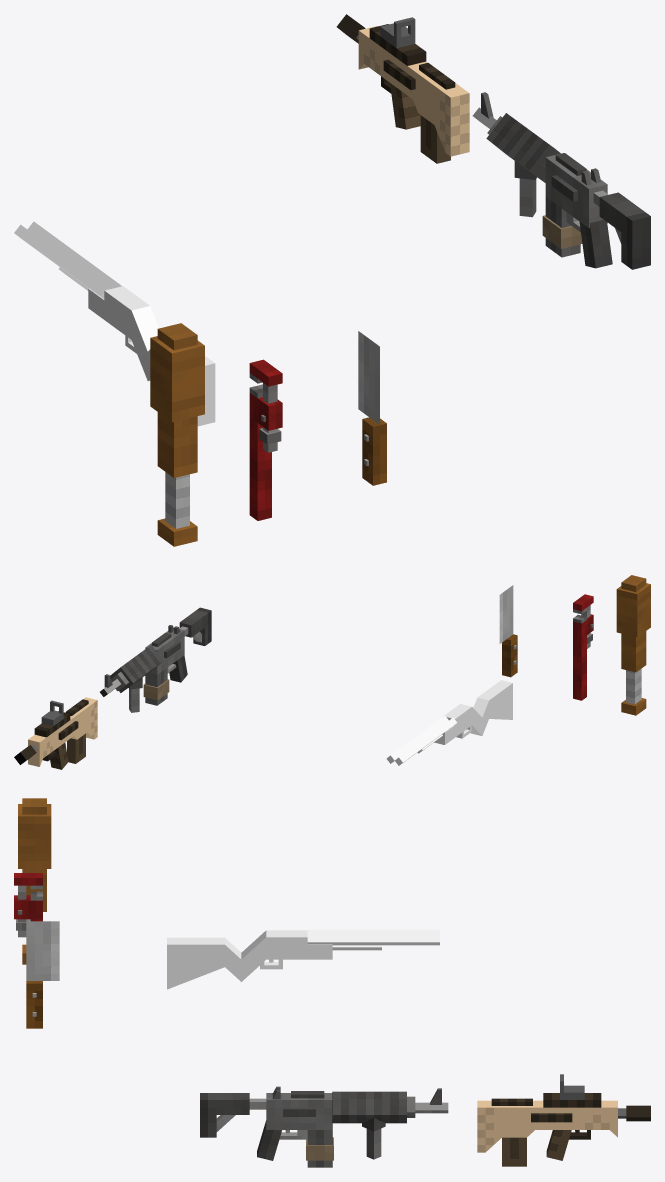
The model's file is Weapons.gltf.
3 views of the same model, one above another, from view 1: azimuth 30°, elevation 25°; view 2: azimuth 150°, elevation 25°; view 3: azimuth 270°, elevation 25° (orthographic). The views are drawn at different scales.
Visible parts, largest first — view 1: cuboid (×22), plane, RedDot; view 2: cuboid (×22), plane, RedDot; view 3: cuboid (×16), plane.
Part boxes in pixels (box(x1,y1,x2,y2)): cuboid (×22): box(14, 24, 650, 546); plane: box(358, 331, 379, 424); RedDot: box(380, 17, 415, 48); cuboid (×22): box(28, 575, 650, 769); plane: box(499, 585, 513, 643); RedDot: box(41, 700, 63, 726); cuboid (×16): box(14, 804, 617, 1167); plane: box(26, 921, 59, 980).
Bounding box in the file's own units: 4.05 × 1.31 × 4.81.
Materials: 8 (5 with a texture image).
